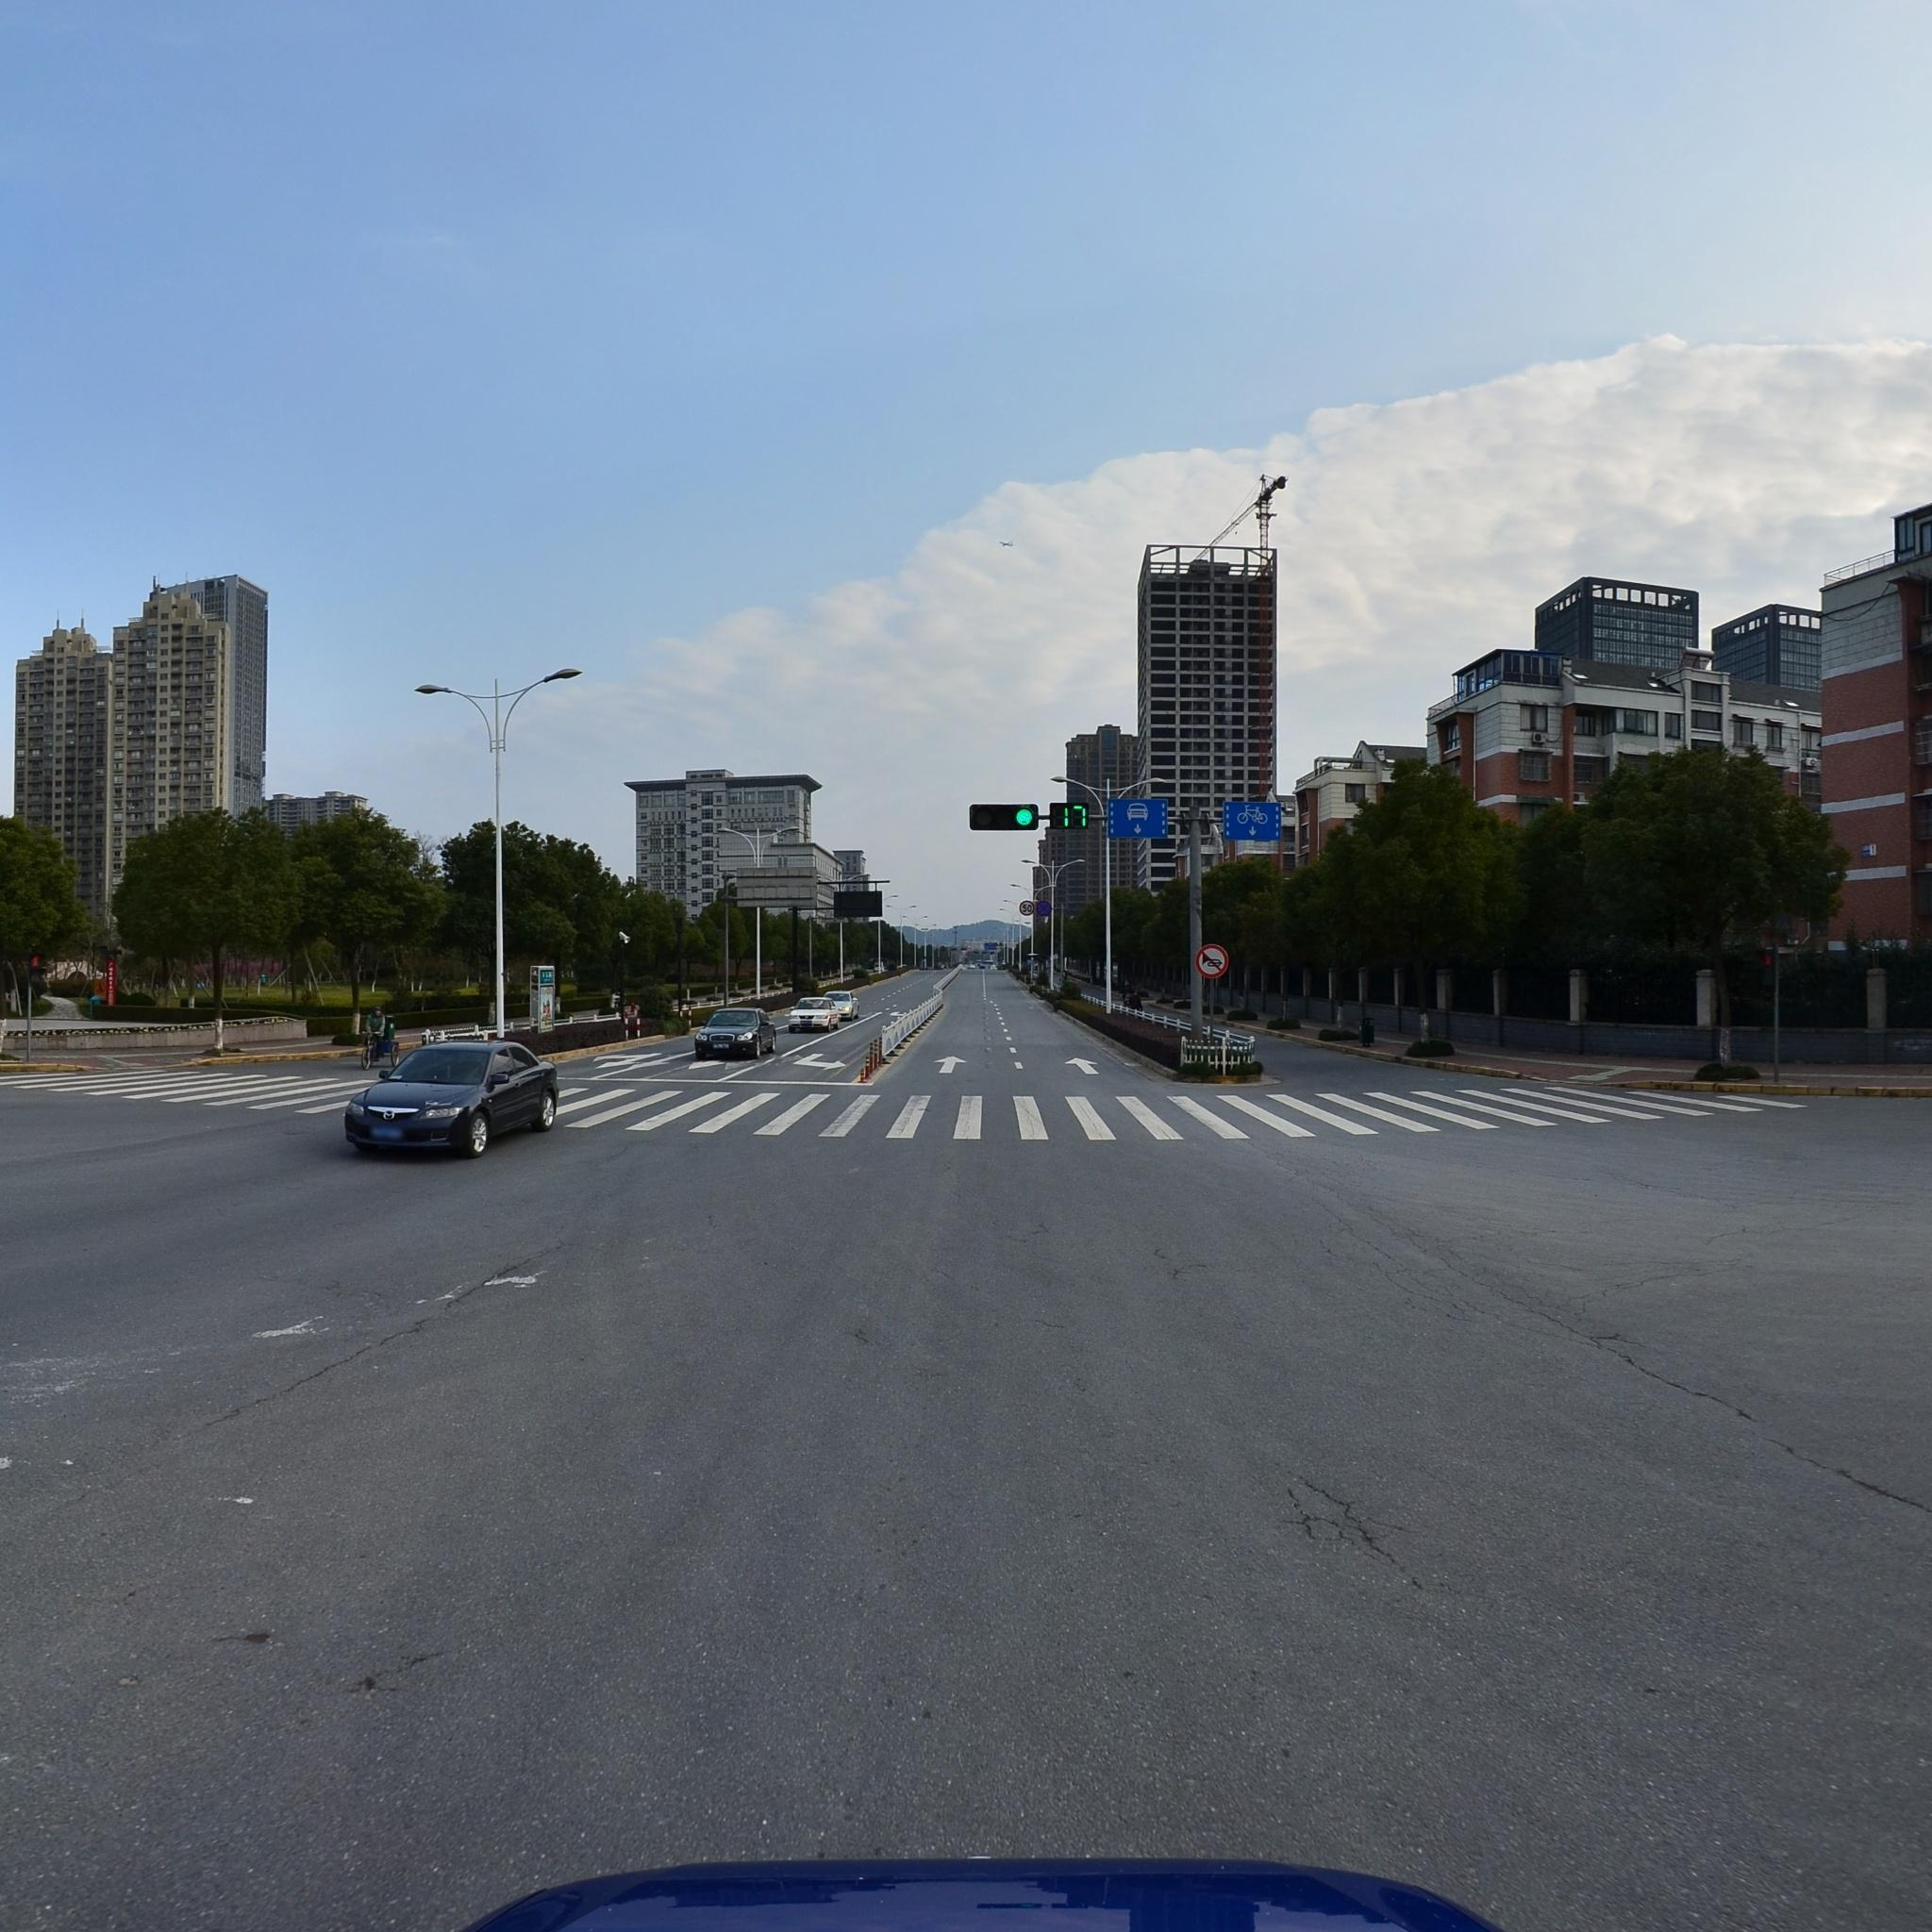p11: (1198, 943, 1226, 978)
